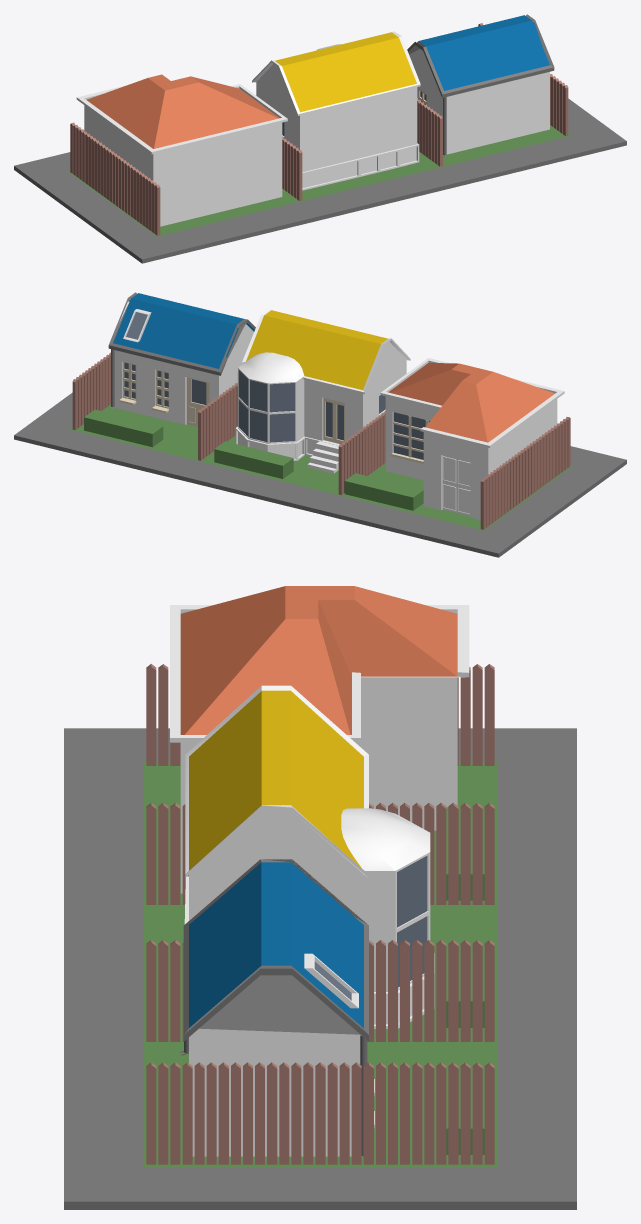
Rendered from Houses001.fbx.
The picture shows the model from 3 angles, top to bottom: view 1: azimuth 30°, elevation 25°; view 2: azimuth 150°, elevation 25°; view 3: azimuth 270°, elevation 25°; orthographic projection. The views are drawn at different scales.
Visible parts, largest first — view 1: Plane.035, Cube.073, Cube.064, Cube.062, Plane.059; view 2: Plane.035, Cube.064, Cube.073, Cube.062, Plane.059, airport.030; view 3: Plane.035, Plane.059, Cube.073, Cube.064, Cube.062, airport.030.
Boxes of the visible parts, x1,y1,x2,y2 form: Plane.035: (14,98,626,263); Cube.073: (76,74,287,226); Cube.064: (252,31,420,190); Cube.062: (407,14,554,157); Plane.059: (70,23,568,235); Plane.035: (14,392,626,557); Cube.064: (235,308,410,473); Cube.073: (380,358,564,519); Cube.062: (108,292,255,426); Plane.059: (72,352,570,529); airport.030: (84,409,423,510); Plane.035: (64,728,576,1209); Plane.059: (146,664,494,1164); Cube.073: (170,586,469,893); Cube.064: (184,685,434,1028); Cube.062: (179,859,374,1156); airport.030: (444,807,487,1154).
Bounding box in the file's own units: 1.75 × 0.4013 × 0.801.
